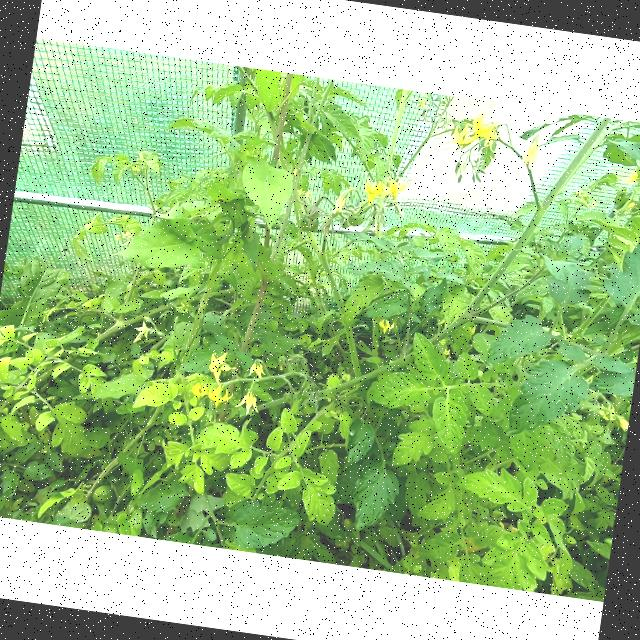Flowers: (450, 105, 503, 151), (233, 378, 266, 418), (592, 399, 630, 432), (130, 314, 166, 346), (208, 349, 235, 386), (518, 132, 544, 170), (205, 382, 238, 410), (360, 176, 386, 208), (383, 177, 408, 206), (332, 189, 351, 217), (247, 358, 268, 380), (188, 380, 210, 400), (114, 231, 134, 249), (619, 167, 639, 184), (376, 318, 396, 334), (574, 188, 592, 200), (294, 188, 311, 200), (588, 196, 600, 208), (626, 201, 636, 211), (441, 348, 451, 356), (439, 338, 447, 347)
